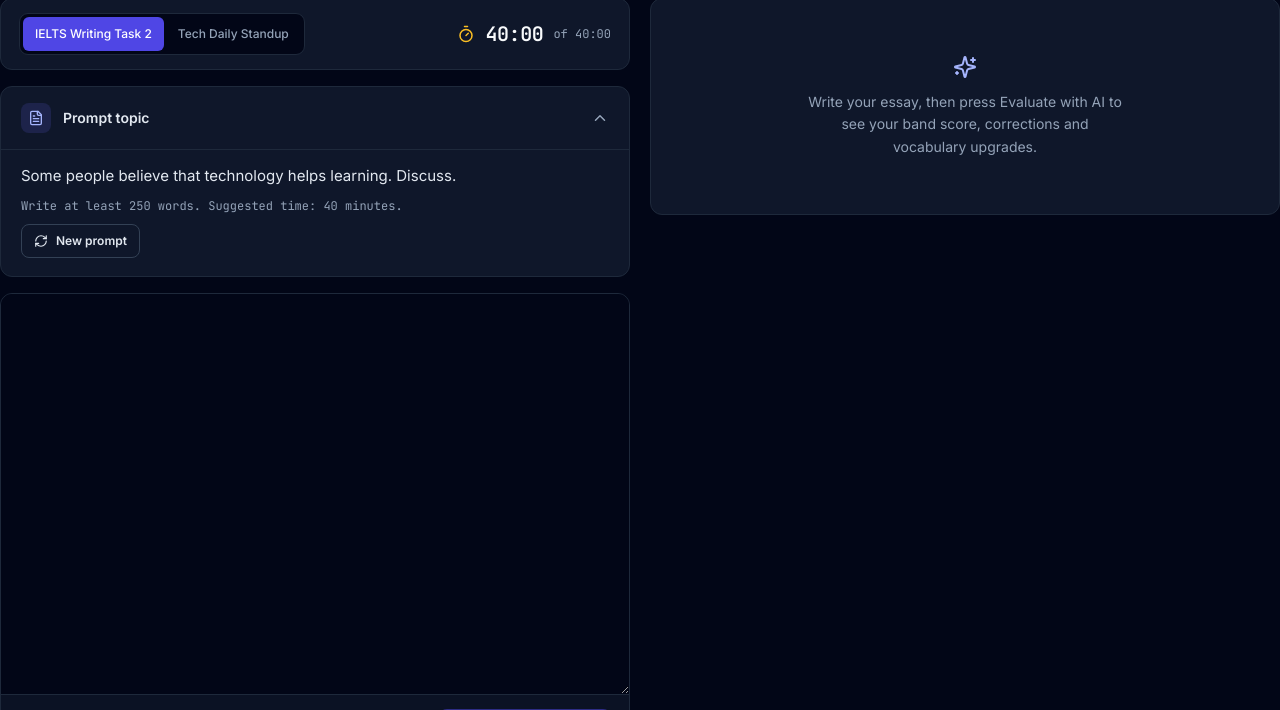
Test: the standup task uses its own time and word range
Check: the text "Some people believe that technology helps learning. Discuss." is shown, box [21,166,456,185]
Step 1. Click the button "Tech Daily Standup" → (233, 34), box [166,17,301,51]
(page scrolled)
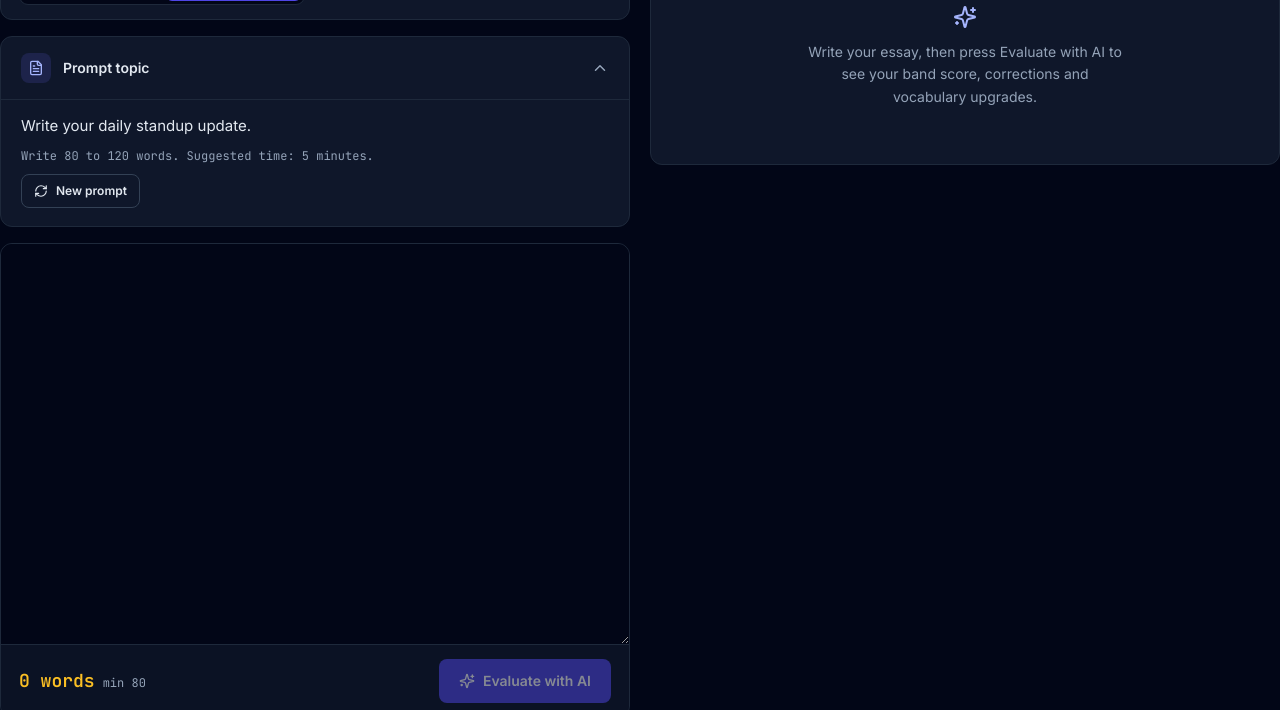
Check: the text "Write your daily standup update." is shown, box [21,116,251,135]
Check: the text "Write 80 to 120 words. Suggested time: 5 minutes." is shown, box [21,148,374,164]
Check: the text "min 80" is shown, box [103,675,146,691]
